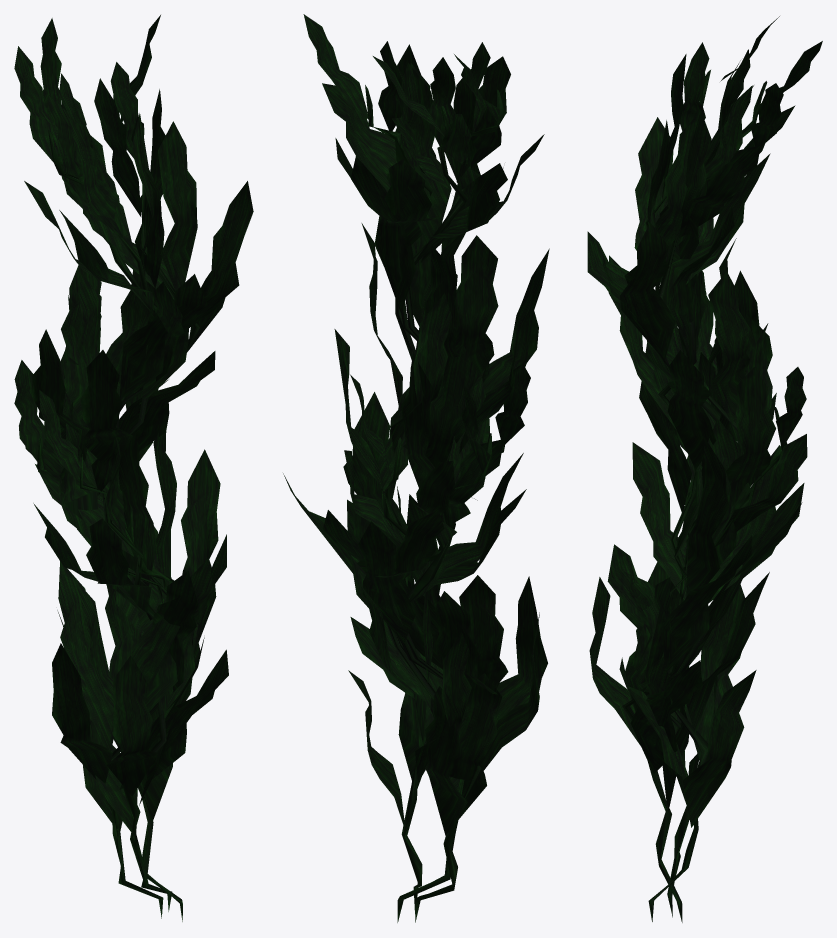
Rendered from seaweed_tall.glb.
The picture shows the model from 3 angles, left to right: view 1: azimuth 30°, elevation 25°; view 2: azimuth 150°, elevation 25°; view 3: azimuth 270°, elevation 25°; orthographic projection. The views are drawn at different scales.
Visible parts, largest first — view 1: defaultMaterial; view 2: defaultMaterial; view 3: defaultMaterial.
Part boxes in pixels (x1,y1,x2,y2): defaultMaterial: [14, 15, 253, 921]; defaultMaterial: [283, 14, 549, 922]; defaultMaterial: [587, 16, 822, 922].
Size of the model in its own units: 0.4946 by 2 by 0.5172.
1 material, 1 textured.
